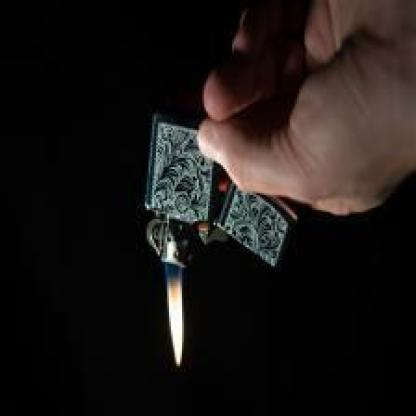Fire: (167, 260, 186, 366)
